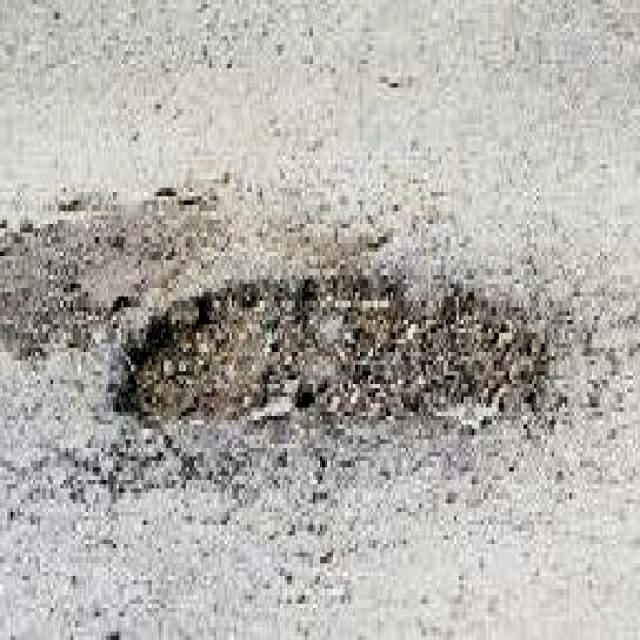Pothole: (109, 258, 553, 433)
